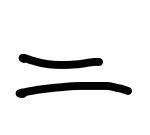eqv: (12, 50, 136, 99)
